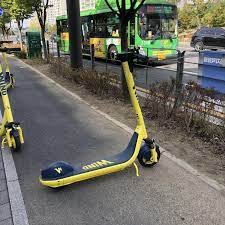kick_board: (40, 50, 161, 187)
kick_handler: (116, 51, 148, 62)
kick_neck: (123, 68, 151, 138)
kick_wheel: (42, 162, 73, 185), (138, 145, 159, 167), (7, 126, 23, 151)
